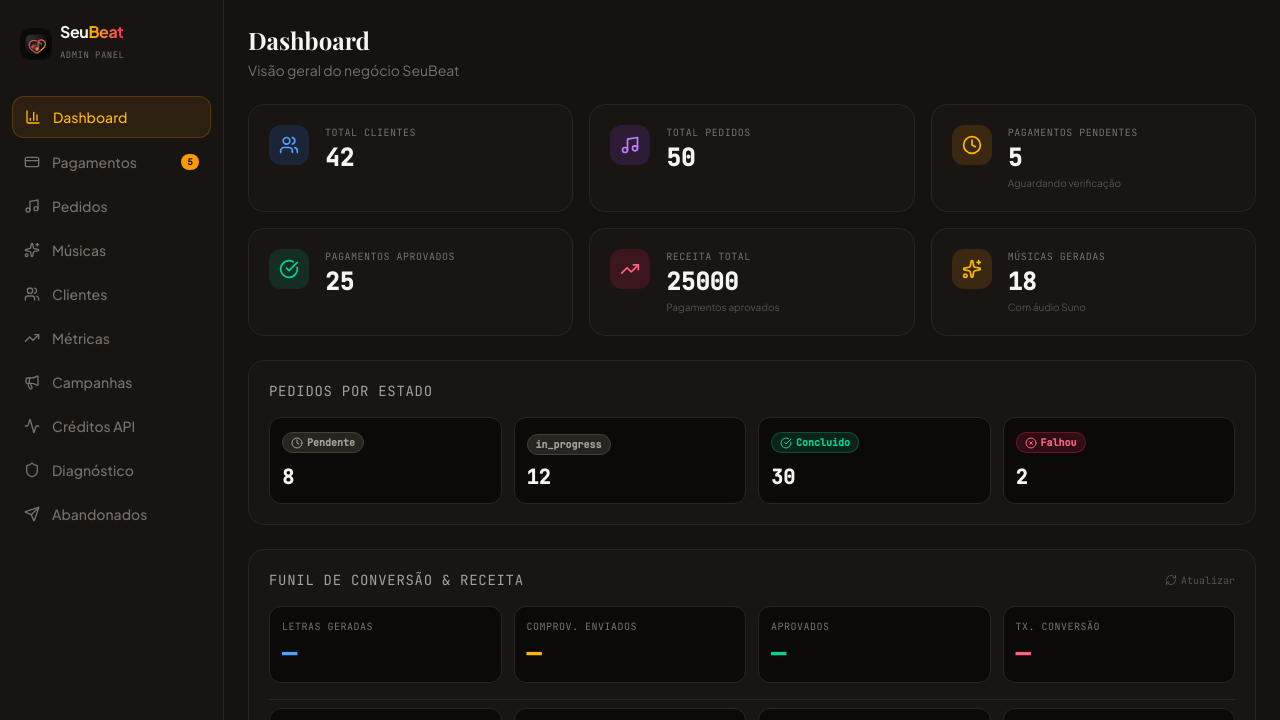
Test: AdminPanel › Navigation › switches between navigation tabs
Expected: the heading "Dashboard" is shown, [248, 24, 370, 56]
Click the button "Pagamentos 5" at {"x": 112, "y": 162}, box [12, 142, 211, 182]
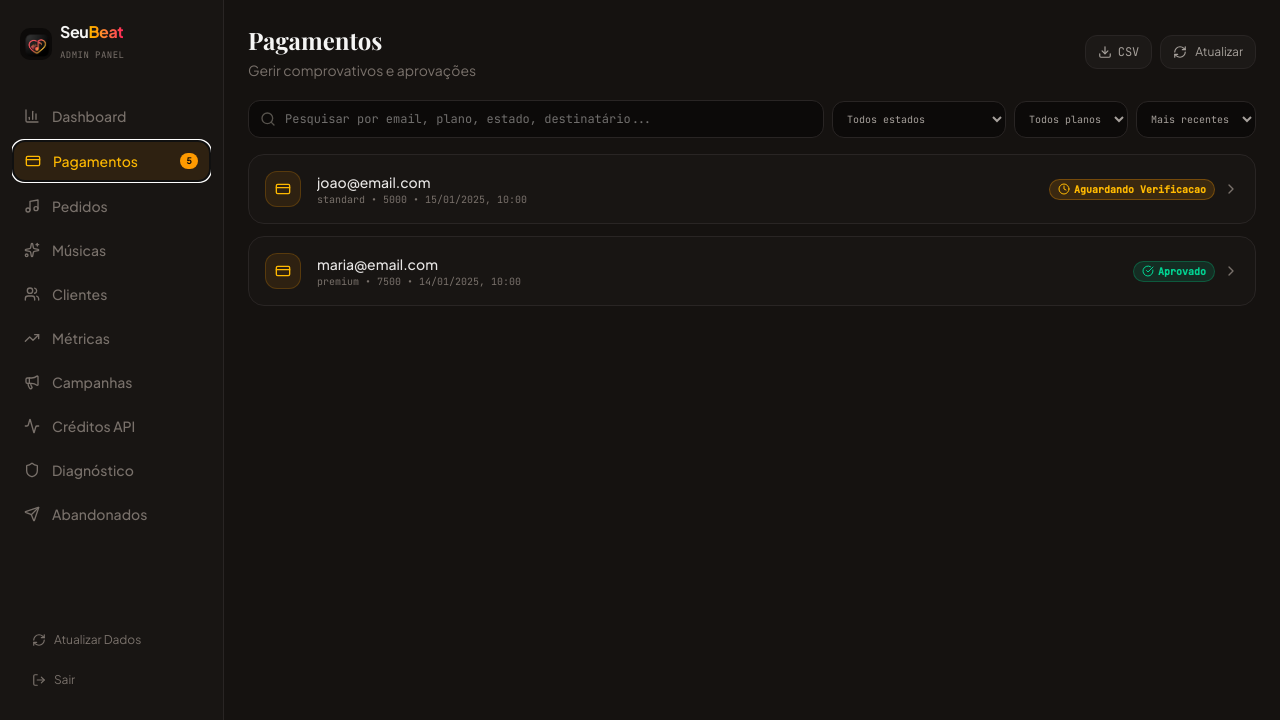
Result: the text "Gerir comprovativos e aprovações" is shown at [248, 60, 476, 80]
Click the button "Pedidos" at {"x": 112, "y": 206}, box [12, 186, 211, 226]
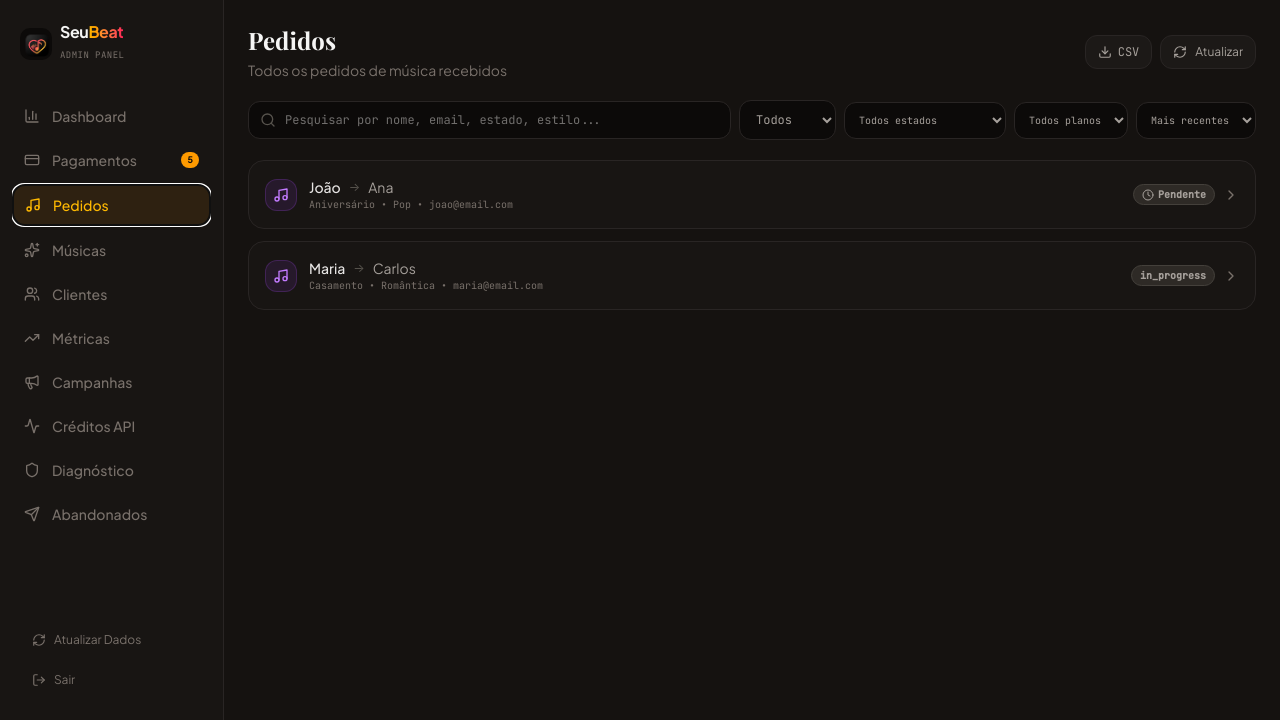
Result: the text "Todos os pedidos de música recebidos" is shown at [248, 60, 507, 80]
